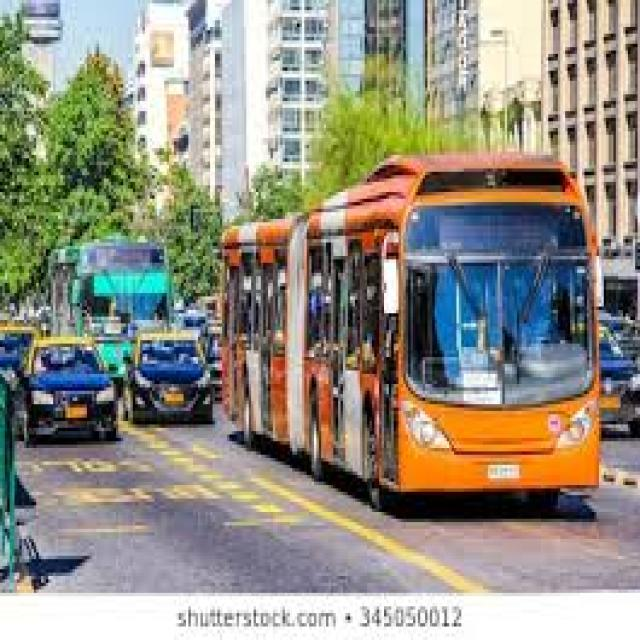AB: (217, 152, 608, 518)
